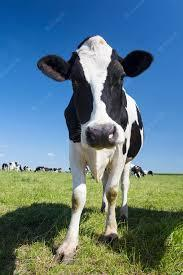cow: (37, 33, 154, 265), (130, 162, 148, 178), (1, 161, 20, 172)
